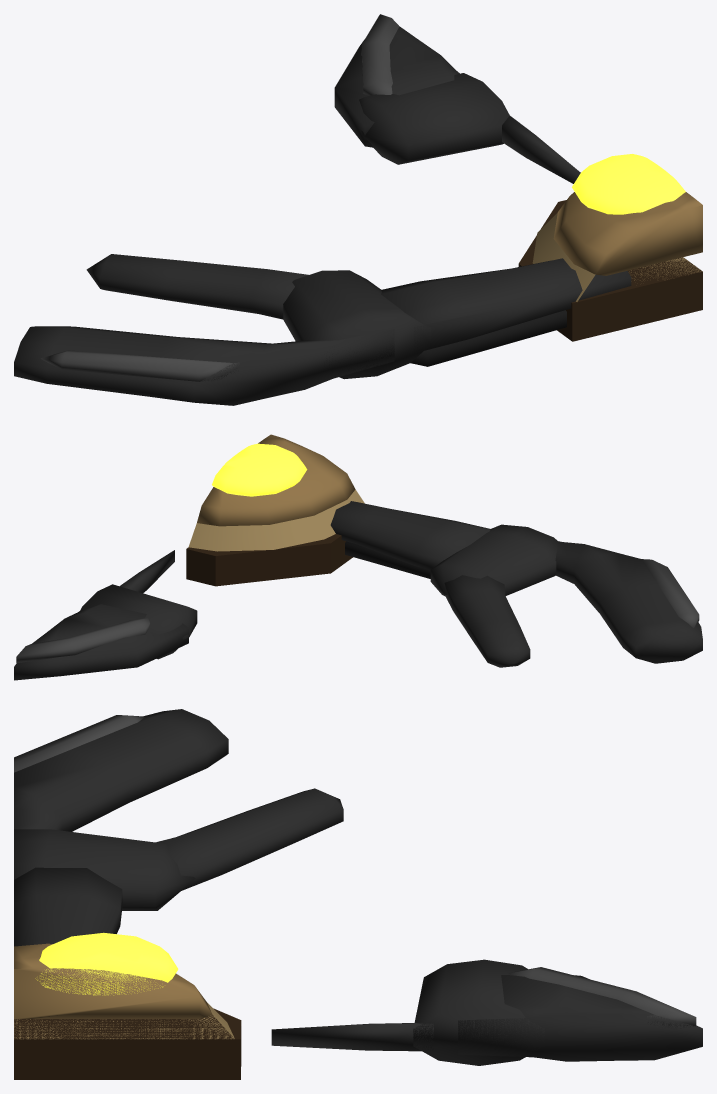
The model's file is newsh-hash-1-f7.glb.
3 views of the same model, one above another, from view 1: azimuth 30°, elevation 25°; view 2: azimuth 150°, elevation 25°; view 3: azimuth 270°, elevation 25° (orthographic). The views are drawn at different scales.
Visible parts, largest first — view 1: newsh-hash-1-f7; view 2: newsh-hash-1-f7; view 3: newsh-hash-1-f7.
Boxes of the visible parts, x1,y1,x2,y2 form: newsh-hash-1-f7: [14, 14, 702, 405]; newsh-hash-1-f7: [14, 434, 702, 680]; newsh-hash-1-f7: [14, 709, 702, 1079].
Bounding box in the file's own units: 0.9269 × 0.1622 × 0.8463.
